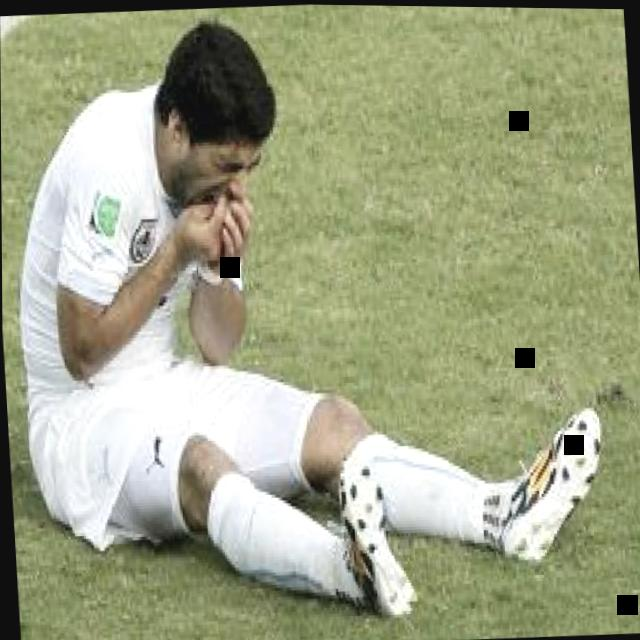Fall-Detected: (2, 0, 637, 637)
